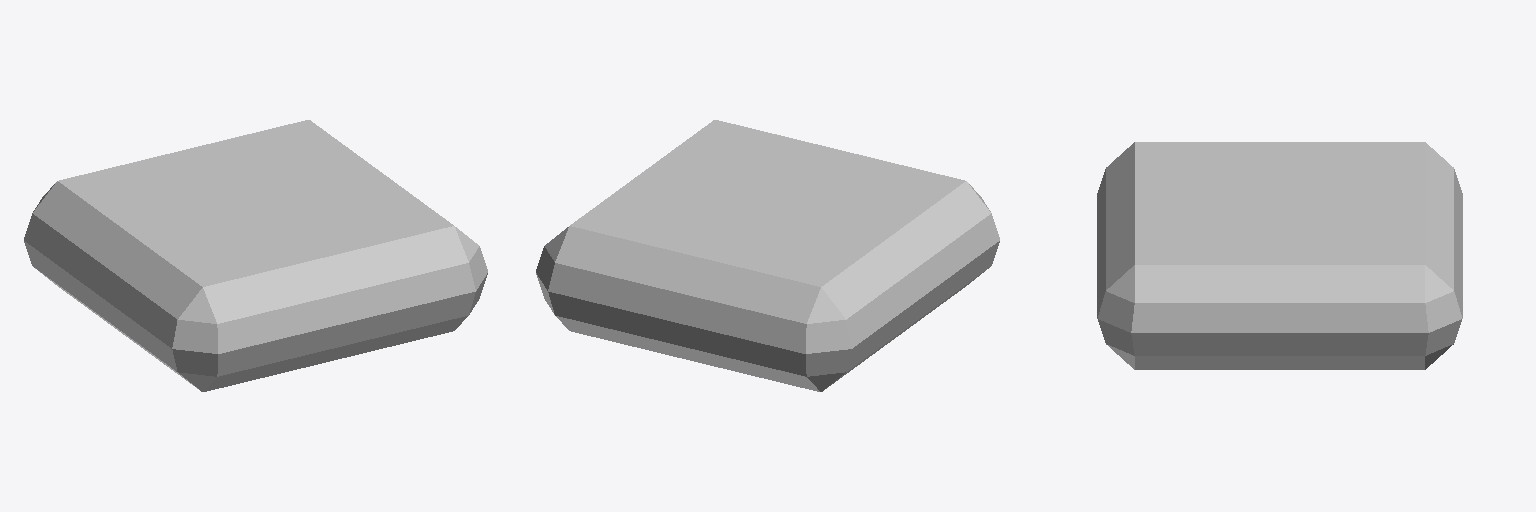
Rendered from towel_yellow.obj.
3 renders of one model, left to right at view 1: azimuth 30°, elevation 25°; view 2: azimuth 150°, elevation 25°; view 3: azimuth 270°, elevation 25°, orthographic.
Parts seen in each view (by area): view 1: towel_yellow; view 2: towel_yellow; view 3: towel_yellow.
Boxes of the visible parts, x1=… form: towel_yellow: x1=24, y1=120, x2=487, y2=391; towel_yellow: x1=536, y1=120, x2=999, y2=391; towel_yellow: x1=1097, y1=142, x2=1462, y2=369.
Bounding box in the file's own units: 0.6284 × 0.2 × 0.6284.